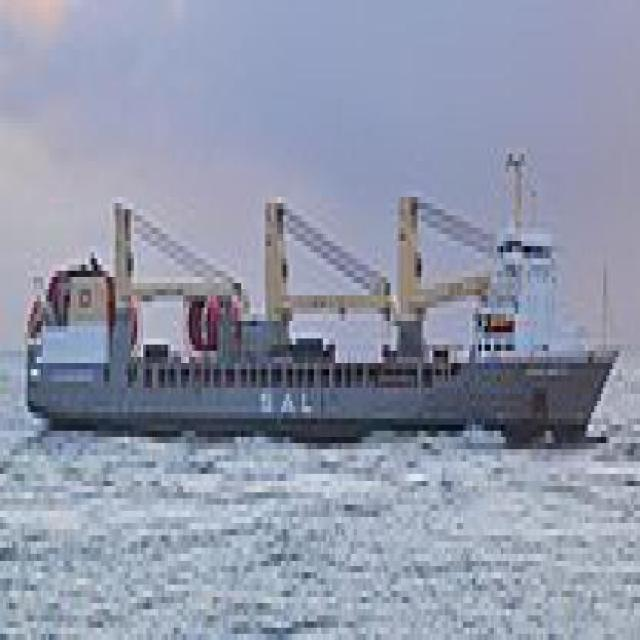container: (17, 143, 623, 469)
